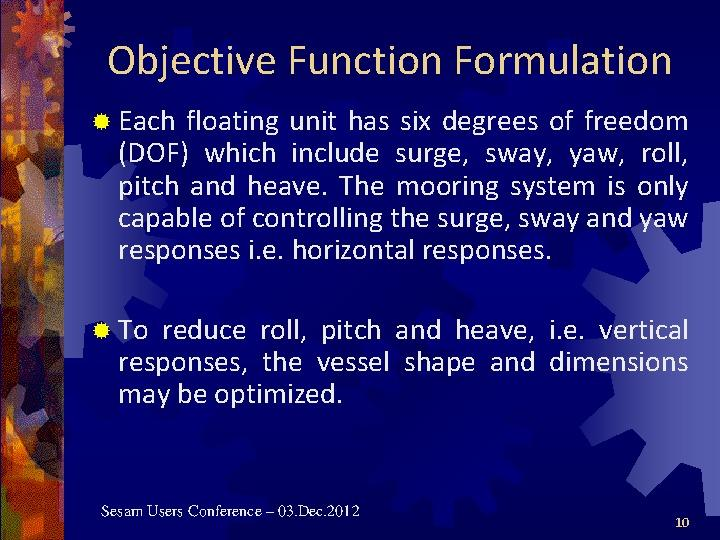paragraph: (79, 104, 710, 436)
title: (95, 31, 687, 96)
